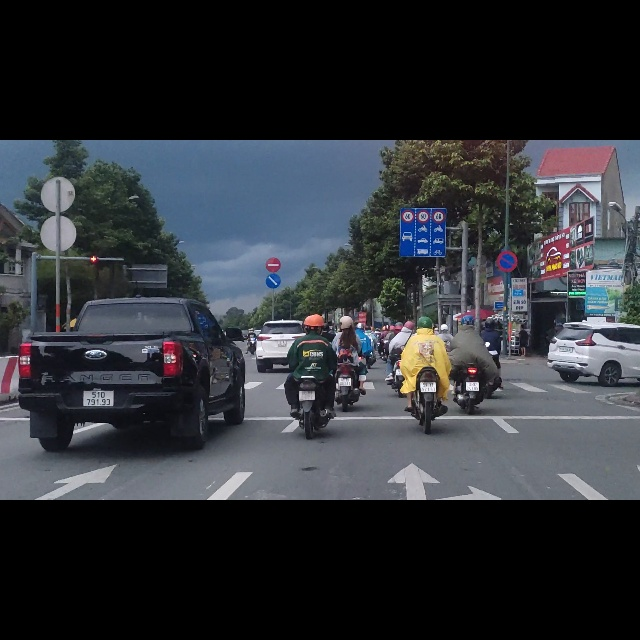bien_hieu_lenh: (398, 119, 447, 208), (496, 196, 518, 235), (264, 209, 281, 236), (265, 237, 281, 265)
